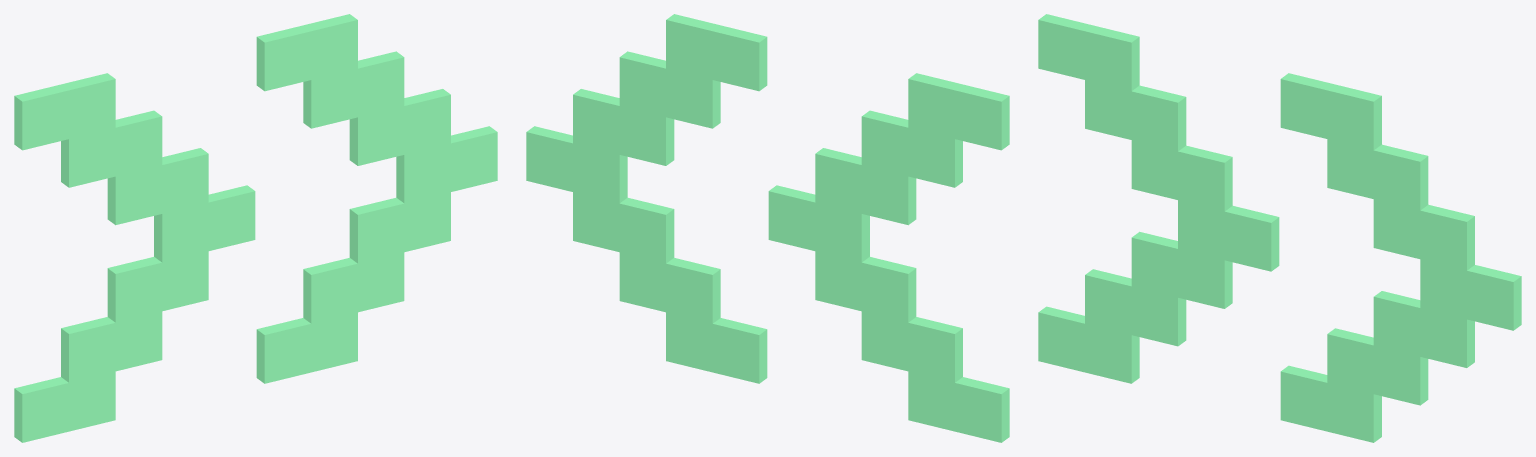
The model's file is Exit_Chevron.gltf.
3 views of the same model, side by side, from view 1: azimuth 30°, elevation 25°; view 2: azimuth 150°, elevation 25°; view 3: azimuth 330°, elevation 25° (orthographic).
Visible parts, largest first — view 1: Exit_Chevron_baked; view 2: Exit_Chevron_baked; view 3: Exit_Chevron_baked.
Part boxes in pixels (x1,y1,x2,y2): Exit_Chevron_baked: (14, 14, 497, 442); Exit_Chevron_baked: (526, 14, 1009, 442); Exit_Chevron_baked: (1038, 14, 1521, 442).
Bounding box in the file's own units: 1.02 × 0.7 × 0.03.
